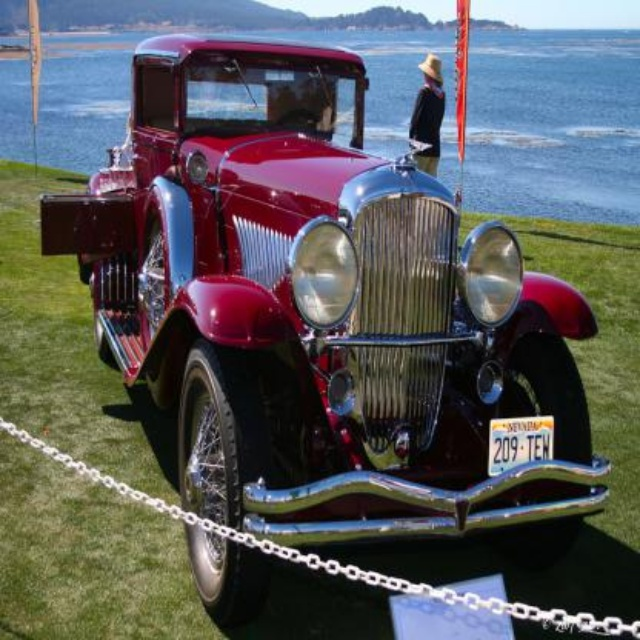Car: (47, 32, 607, 617)
